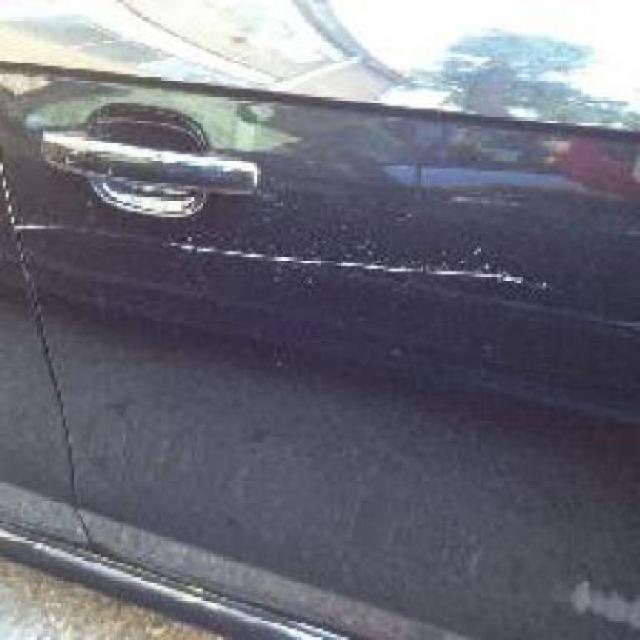dent-or-scratch: (4, 212, 544, 300)
